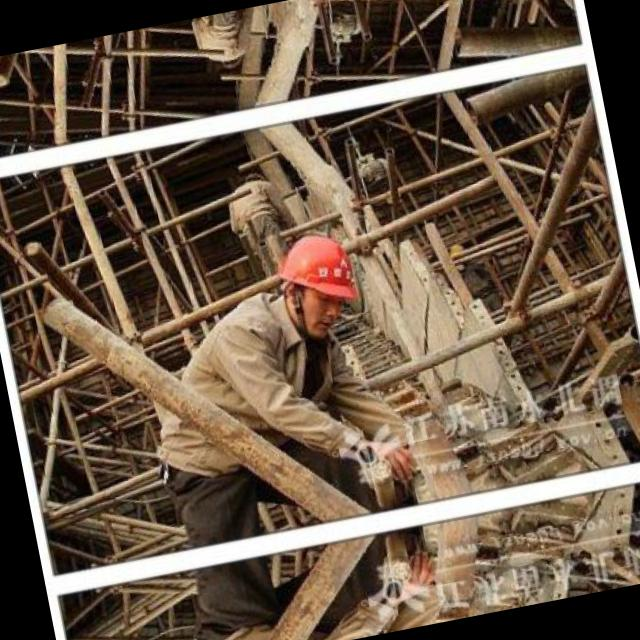helmet: (263, 219, 368, 341)
